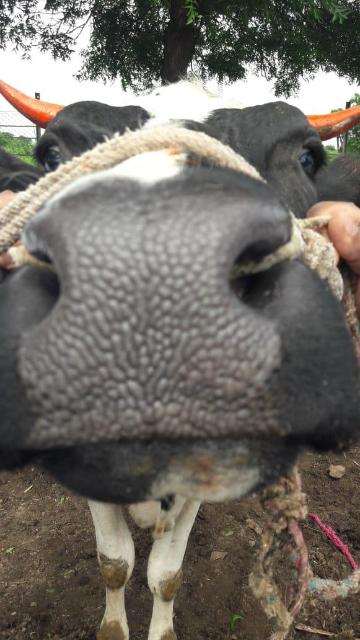Muzzle: (44, 211, 256, 437)
